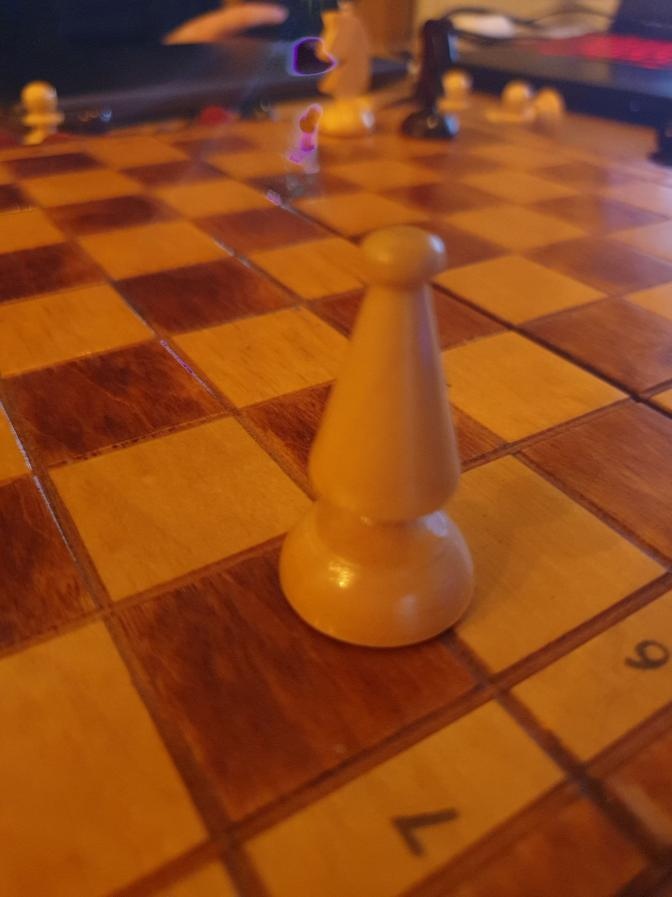wbishop: (276, 227, 476, 649)
